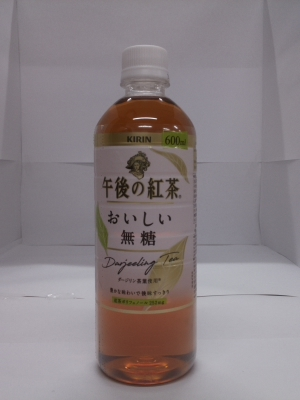gogo_tea: (84, 37, 211, 392)
